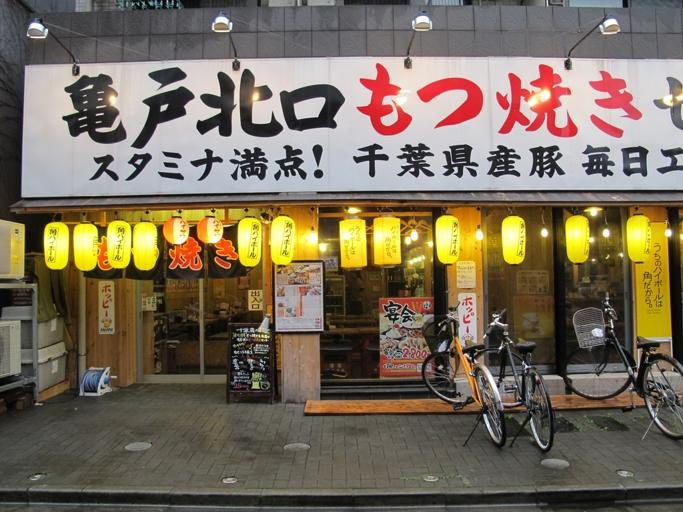non-vehicle: (559, 285, 683, 442), (417, 297, 509, 453), (473, 306, 554, 453)
